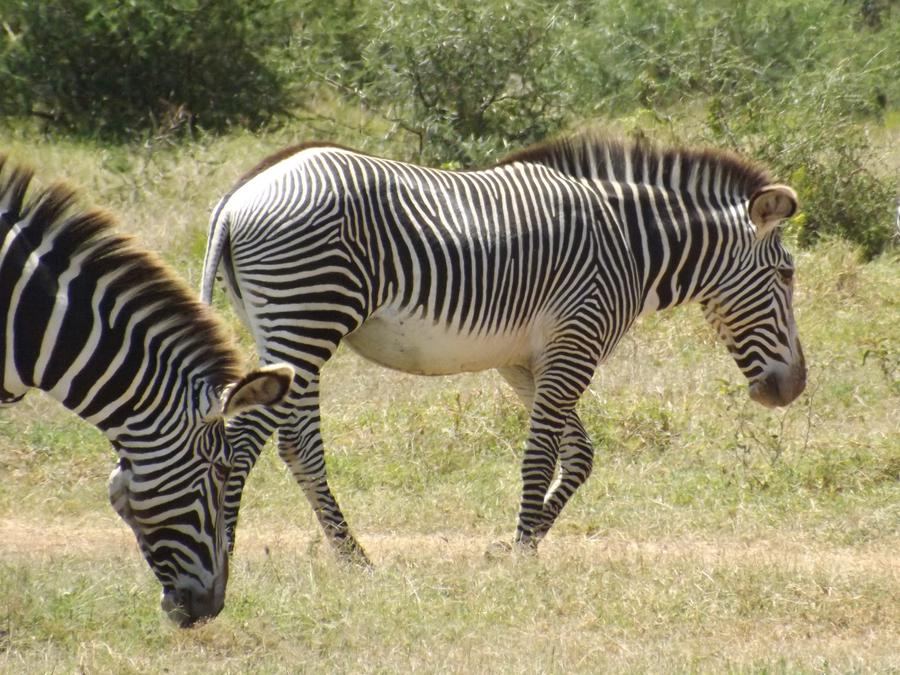zebra_grevys: (194, 133, 609, 377)
